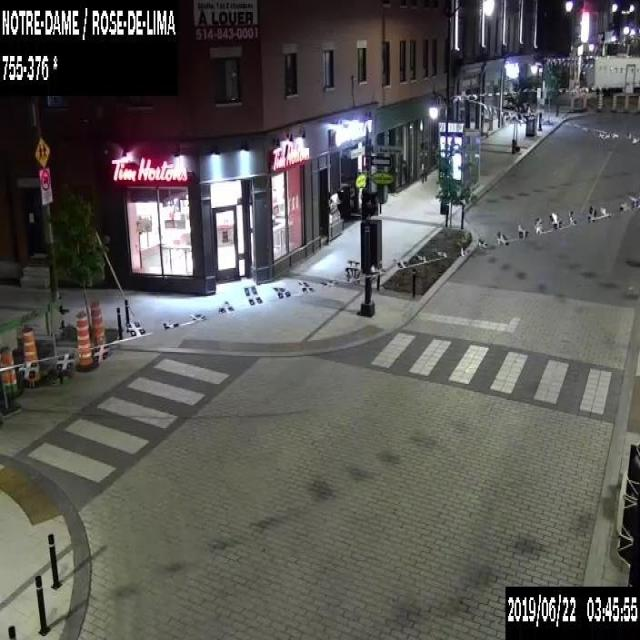construction: (74, 310, 98, 372), (20, 324, 43, 384), (0, 344, 21, 396), (610, 92, 616, 112), (596, 92, 602, 112), (623, 91, 628, 112), (581, 93, 587, 110), (636, 94, 639, 112)
vehicle: (90, 300, 108, 359)
